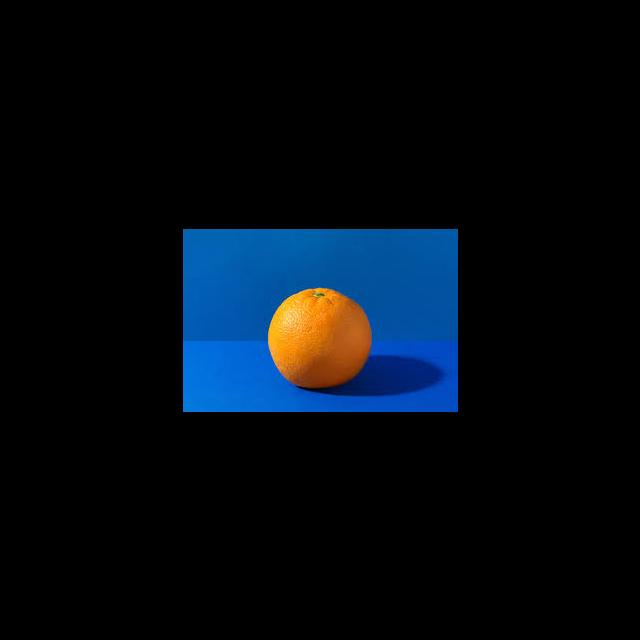orange: (263, 282, 374, 395)
